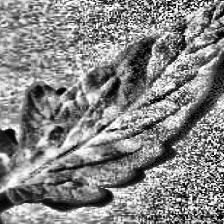leaf mold: (0, 0, 224, 203)
